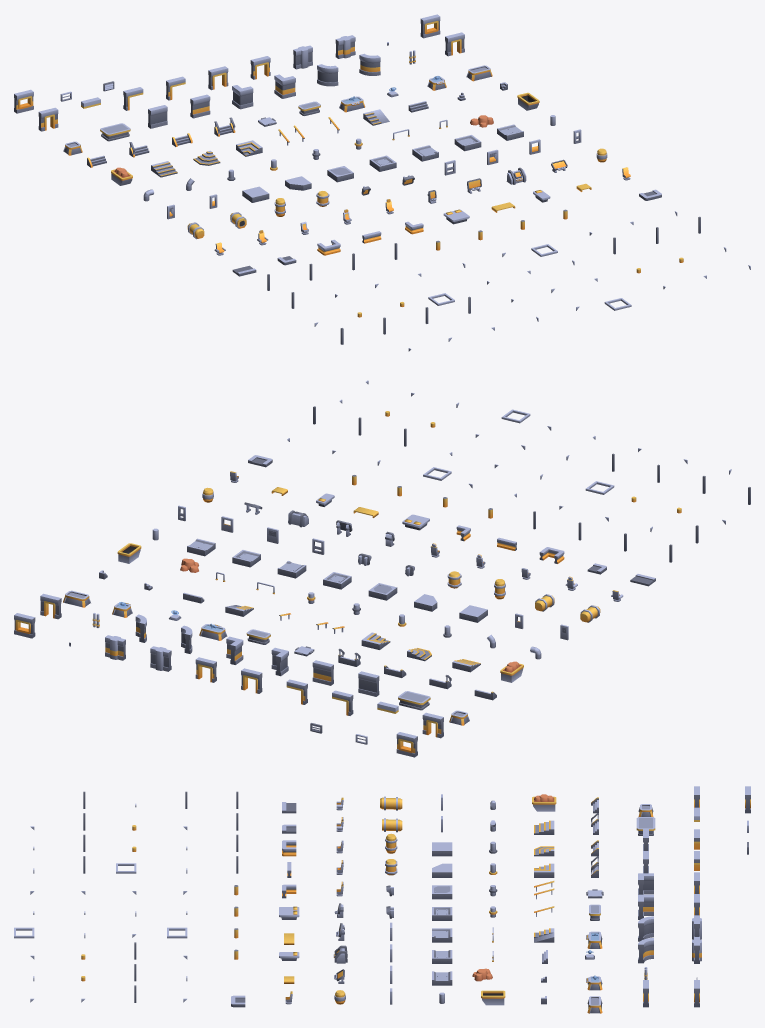
Rendered from station.glb.
3 renders of one model, top to bottom at view 1: azimuth 30°, elevation 25°; view 2: azimuth 150°, elevation 25°; view 3: azimuth 270°, elevation 25°, orthographic. The views are drawn at different scales.
Parts seen in each view (by area): view 1: no part large enough to name; view 2: no part large enough to name; view 3: skip-rocks.
Part boxes in pixels (box(x1,y1,x2,y2)): skip-rocks: box(532, 794, 556, 811).
Size of the model in its own units: 23.62 by 1.3 by 36.15.
97 materials, 97 textured.
